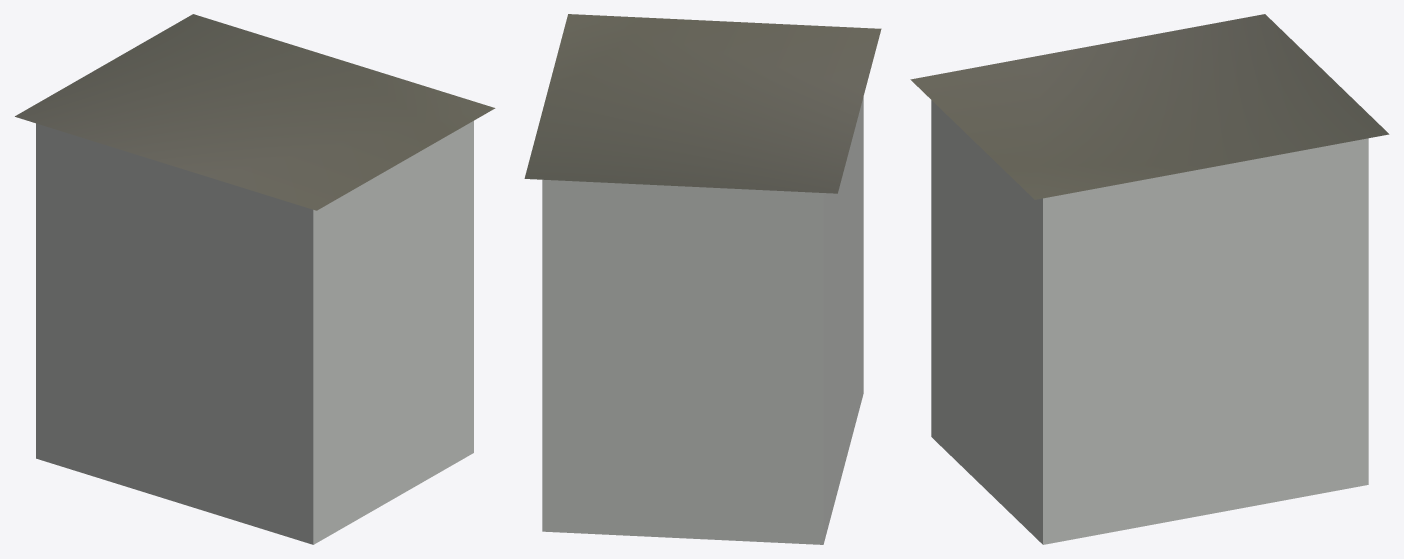
File: LSZH_-2_3.glb
3 views of the same model, side by side, from view 1: azimuth 30°, elevation 25°; view 2: azimuth 150°, elevation 25°; view 3: azimuth 270°, elevation 25° (orthographic). The views are drawn at different scales.
Visible parts, largest first — view 1: building_768ba2445ee7d5c0, building_d7945cb713d28e2c; view 2: building_768ba2445ee7d5c0, building_d7945cb713d28e2c; view 3: building_768ba2445ee7d5c0, building_d7945cb713d28e2c.
Boxes of the visible parts, left/top/right/bottom form: building_768ba2445ee7d5c0: left=36, top=121, right=473, bottom=544; building_d7945cb713d28e2c: left=15, top=14, right=495, bottom=210; building_768ba2445ee7d5c0: left=542, top=97, right=863, bottom=544; building_d7945cb713d28e2c: left=524, top=14, right=881, bottom=193; building_768ba2445ee7d5c0: left=931, top=100, right=1368, bottom=544; building_d7945cb713d28e2c: left=910, top=14, right=1389, bottom=199.
Size of what is drawn, in the model's own units: 6.9 by 6.12 by 7.52.
Materials: 2 (1 with a texture image).
